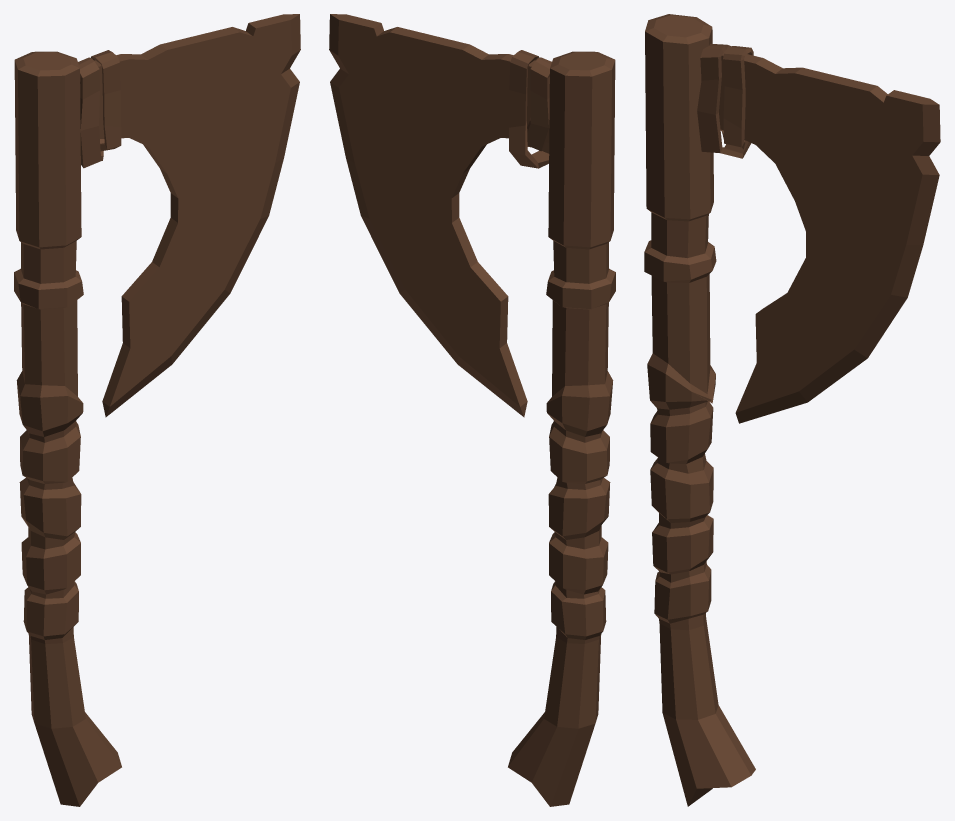
Rendered from Axe_Small.glb.
3 views of the same model, side by side, from view 1: azimuth 30°, elevation 25°; view 2: azimuth 150°, elevation 25°; view 3: azimuth 330°, elevation 25° (orthographic). The views are drawn at different scales.
Bounding box in the file's own units: 1.17 × 2.96 × 0.2483.
